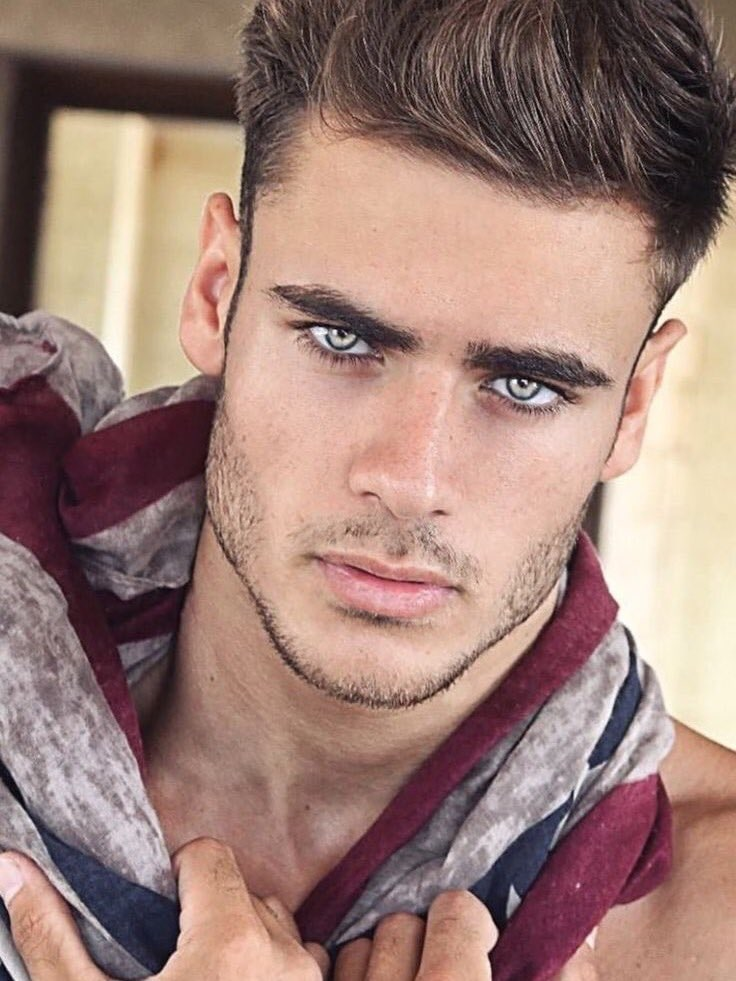without_mask: (237, 192, 632, 640)
